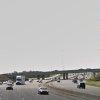Car: (34, 84, 49, 95)
